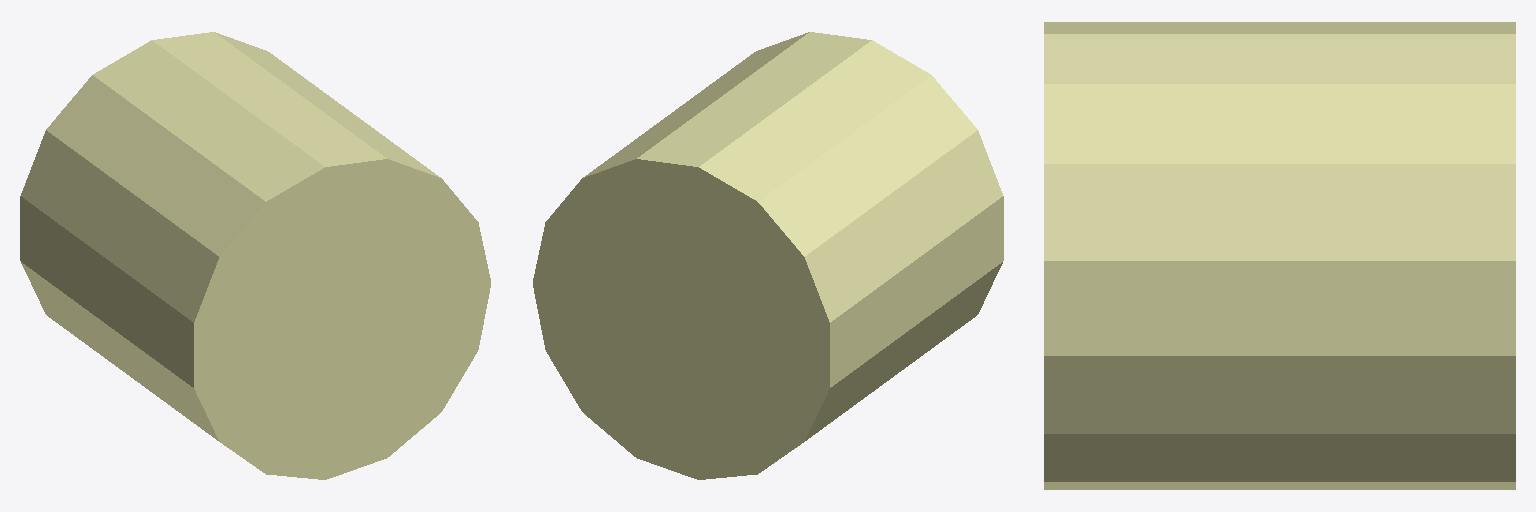
The robot description file, URDF, robot "cylinder":
<robot name="cylinder" >
    <link name="body">
        <inertial>
            <origin rpy="0 0 0" xyz="0.0 0.0 0.0"/>
            <mass value="1.0"/>
            <inertia ixx="1.0" ixy="0.0" ixz="0.0" iyy="1.0" iyz="0.0" izz="1.0"/>
        </inertial>
        <visual>
            <origin rpy="0 0 0" xyz="0.0 0 0.0"/>
            <geometry name="cylinder_visual">
                <mesh filename="cylinder.obj" scale="0.1 0.1 0.1"/>
            </geometry>
            <material name="Yellow"/>
        </visual>
        <collision>
            <origin rpy="0 0 0" xyz="0.0 0.0 0.0"/>
            <geometry name="cylinder_collision">
                <mesh filename="cylinder.obj" scale="0.1 0.1 0.1"/>
            </geometry>
        </collision>
    </link>
        
    <material name="Blue">
        <color rgba="0.0 0.0 0.8 1.0"/>
    </material>
    <material name="Green">
        <color rgba="0.0 0.8 0.0 1.0"/>
    </material>
    <material name="Grey">
        <color rgba="0.3 0.3 0.3 1.0"/>
    </material>
    <material name="LightGrey">
        <color rgba="0.6 0.6 0.6 1.0"/>
    </material>
    <material name="Red">
        <color rgba="0.8 0.0 0.0 1.0"/>
    </material>
    <material name="White">
        <color rgba="1.0 1.0 1.0 1.0"/>
    </material>
    <material name="Yellow">
        <color rgba="0.9 0.9 0.7 1.0"/>
    </material>

</robot>

--- Render facts (derived) ---
3 views of the same robot in one strip: view 1: azimuth 30°, elevation 25°; view 2: azimuth 150°, elevation 25°; view 3: azimuth 270°, elevation 25° (orthographic).
Model cylinder with 1 links and 0 joints (none), rooted at body, posed all joints at 0.
Visible links, largest first — view 1: body; view 2: body; view 3: body.
Link boxes in pixels (x1,y1,x2,y2): body: (20,32,490,479); body: (533,32,1003,479); body: (1044,22,1515,489).
Bounding box of the posed robot: 0.9891 × 1 × 0.9945 m (x, y, z).
Meshes: 1 distinct files referenced, 1 mesh visuals loaded (1 OBJ).